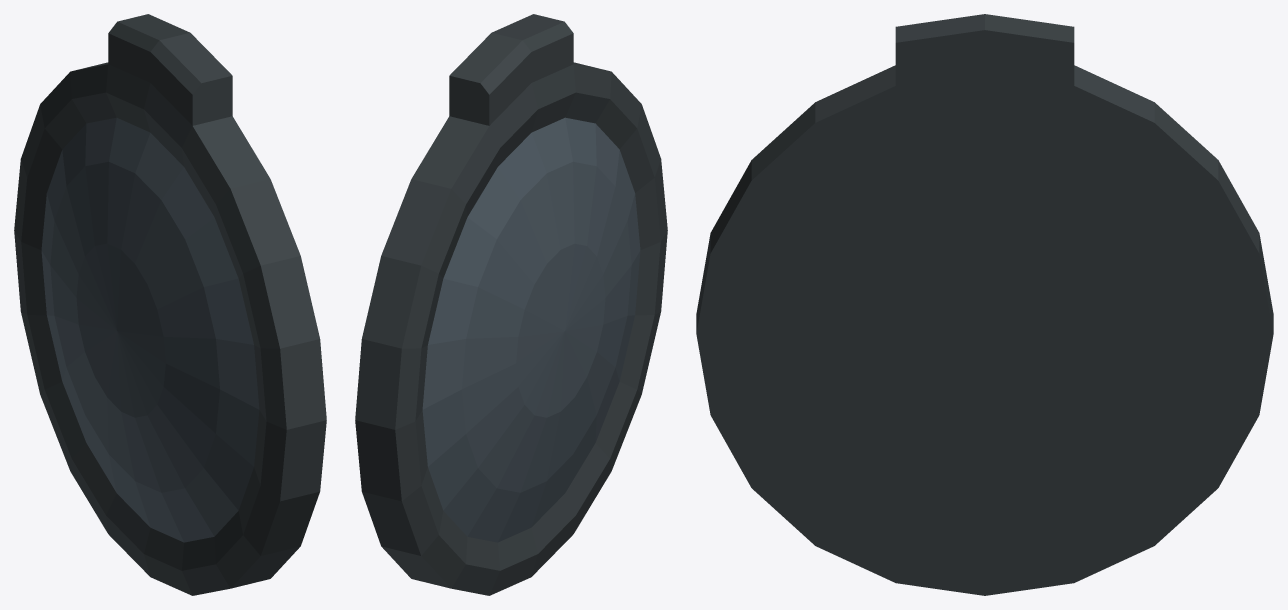
The model's file is Porta.obj.
3 views of the same model, side by side, from view 1: azimuth 30°, elevation 25°; view 2: azimuth 150°, elevation 25°; view 3: azimuth 270°, elevation 25° (orthographic). The views are drawn at different scales.
Parts seen in each view (by area): view 1: Porta_Sphere.010; view 2: Porta_Sphere.010; view 3: Porta_Sphere.010.
Part boxes in pixels (x1=…): Porta_Sphere.010: x1=14, y1=14, x2=326, y2=595; Porta_Sphere.010: x1=355, y1=14, x2=667, y2=595; Porta_Sphere.010: x1=696, y1=14, x2=1273, y2=595.
Bounding box in the file's own units: 0.3665 × 2.55 × 2.36.
Materials: 1 (1 with a texture image).
